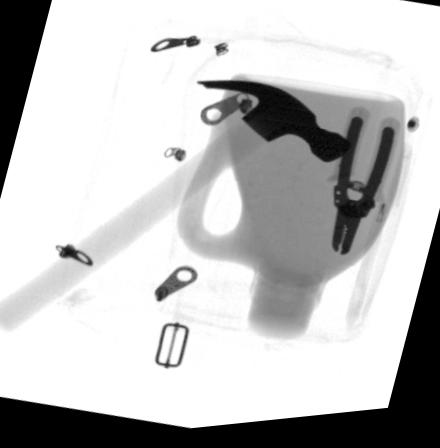Hammer: (0, 83, 352, 332)
Pliers: (327, 113, 399, 262)
